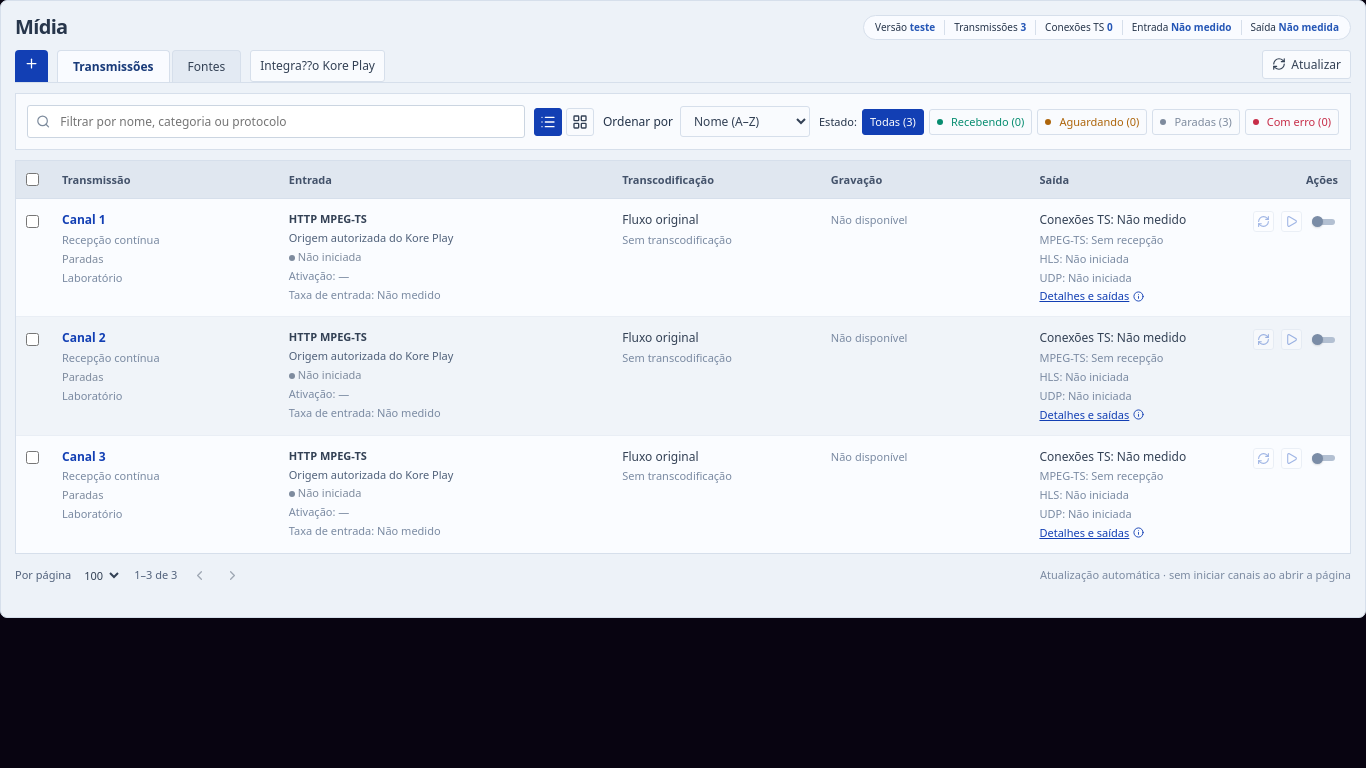
Test: halts a bulk request on a stale revision and reports the partial result
Expected: the button "Canal 1" is shown, [62,211,106,229]
Click the checkbox named "Selecionar transmissões desta página" at (32, 180), box [26,173,39,186]
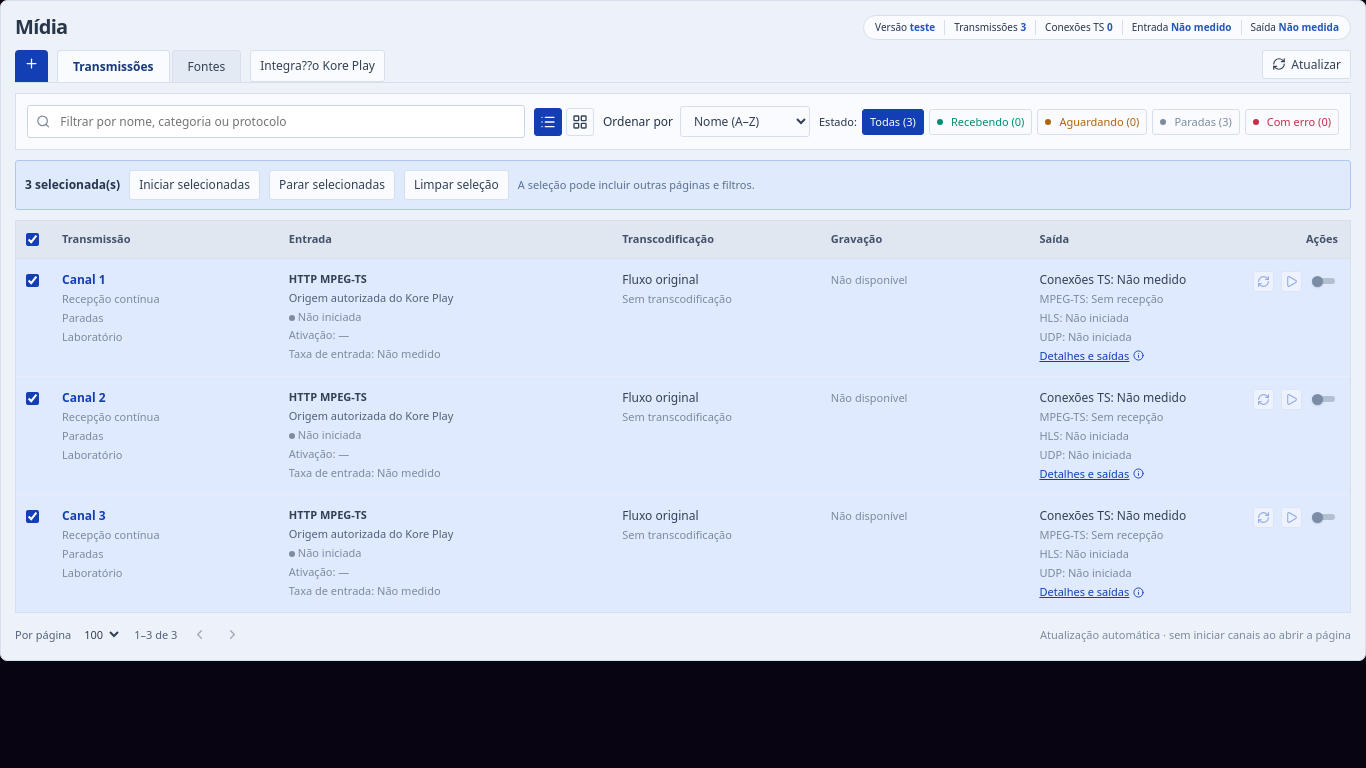
Click the button "Iniciar selecionadas" at (194, 185), box [129,170,260,200]
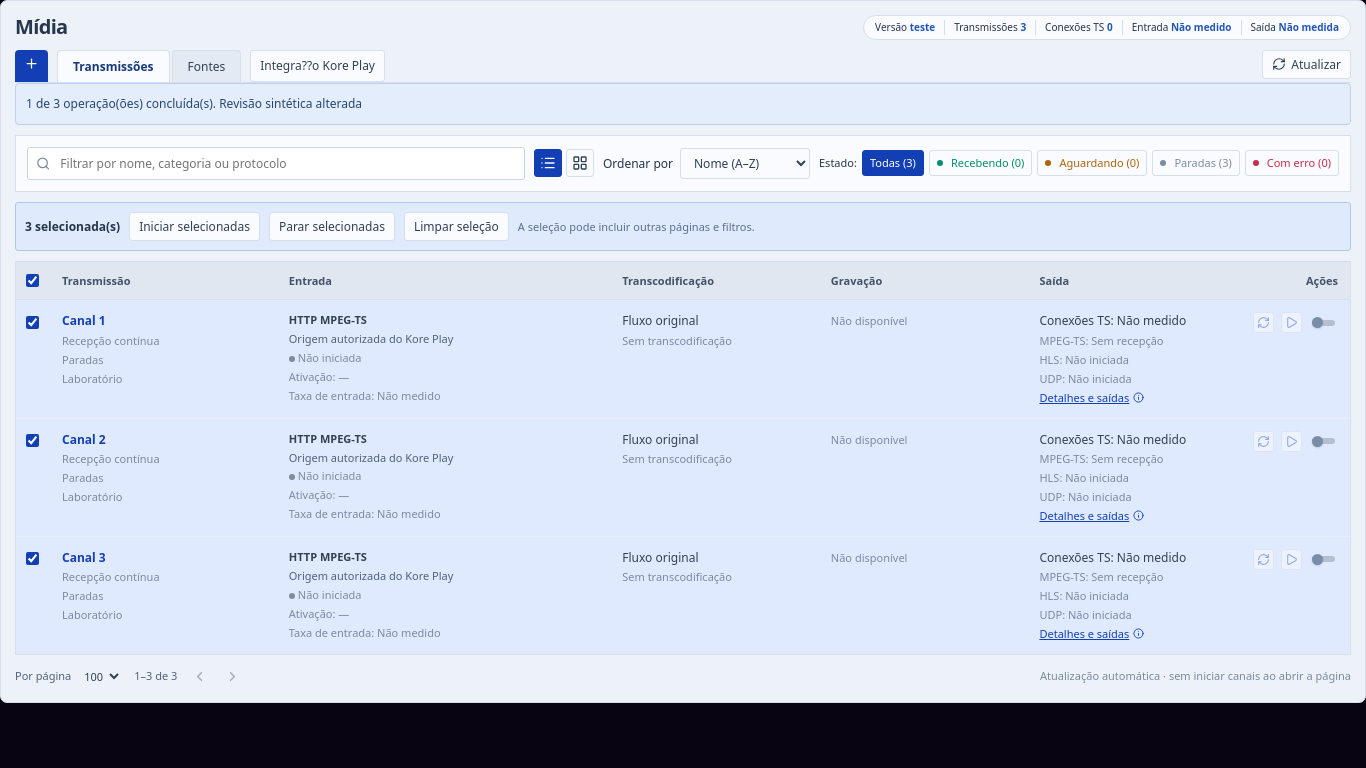
Now the text "1 de 3 operação(ões) concluída(s). Revisão sintética alterada" is shown, box [15,83,1351,125]
